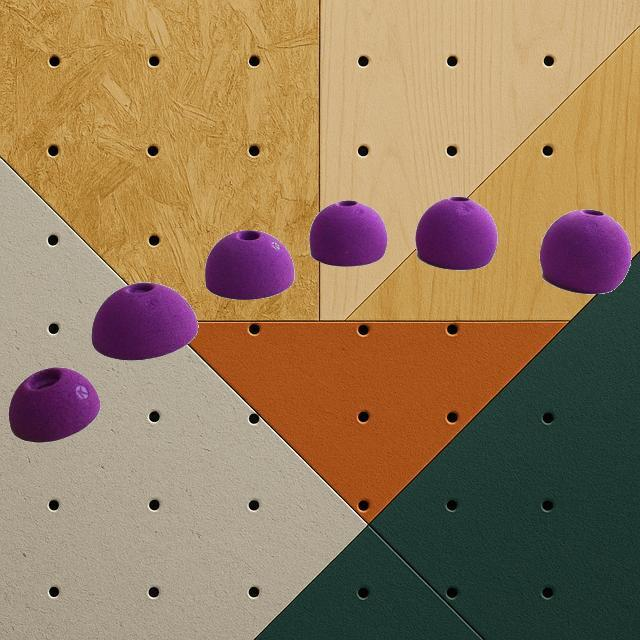Sloper: (90, 280, 198, 360), (538, 208, 632, 294), (8, 366, 100, 442), (203, 228, 294, 300), (414, 194, 498, 270), (308, 199, 388, 267)
